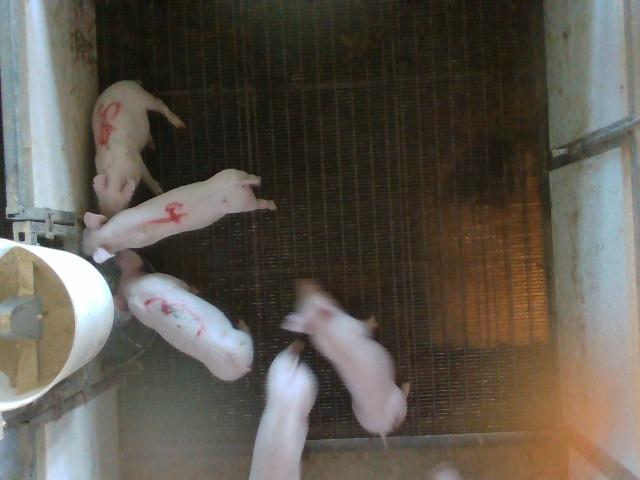pig-3: (114, 251, 254, 381)
pig-4: (84, 169, 275, 262)
pig-5: (92, 80, 185, 217)
